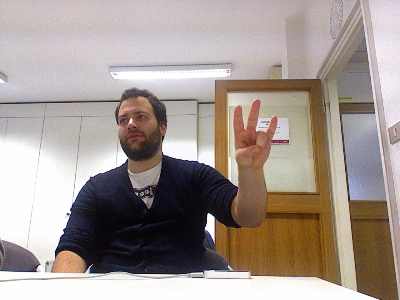观音: (232, 98, 278, 169)
